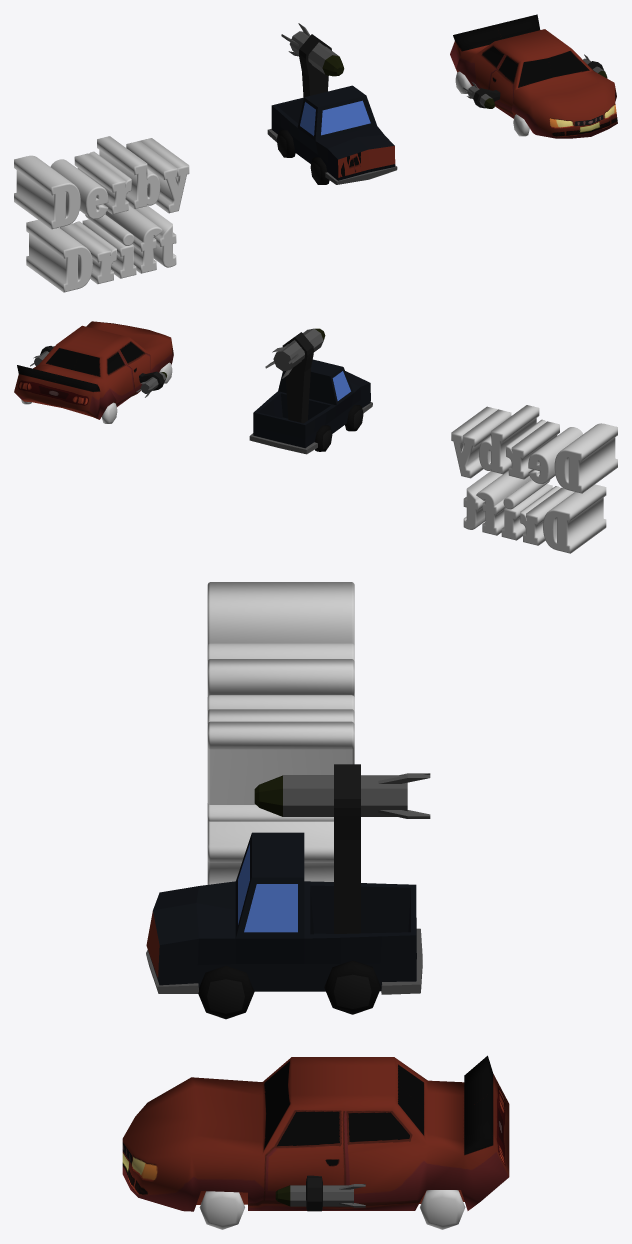
Rendered from Wheels1.obj.
3 renders of one model, top to bottom at view 1: azimuth 30°, elevation 25°; view 2: azimuth 150°, elevation 25°; view 3: azimuth 270°, elevation 25°, orthographic. The views are drawn at different scales.
Visible parts, largest first — view 1: Text, Cube_Cube.002, Cube.002_Cube.006, Cylinder.002, Cube.003_Cube.007, Plane.005_Plane.009, Plane.001_Plane.010; view 2: Text, Cube_Cube.002, Cube.002_Cube.006, Cube.003_Cube.007, Cylinder.002, Plane.005_Plane.009, Plane.001_Plane.010; view 3: Cube_Cube.002, Text, Cube.002_Cube.006, Cylinder.002, Cube.003_Cube.007, Plane.005_Plane.009, Plane.001_Plane.010, Cylinder.003.
Part boxes in pixels (x1,y1,x2,y2): Text: [14, 136, 189, 292]; Cube_Cube.002: [450, 14, 617, 138]; Cube.002_Cube.006: [267, 85, 397, 184]; Cylinder.002: [281, 23, 344, 76]; Cube.003_Cube.007: [299, 34, 331, 98]; Plane.005_Plane.009: [276, 130, 329, 184]; Plane.001_Plane.010: [455, 71, 529, 136]; Text: [451, 405, 617, 553]; Cube_Cube.002: [14, 321, 173, 419]; Cube.002_Cube.006: [249, 359, 372, 454]; Cube.003_Cube.007: [282, 332, 313, 423]; Cylinder.002: [265, 328, 325, 378]; Plane.005_Plane.009: [315, 405, 363, 451]; Plane.001_Plane.010: [21, 362, 172, 423]; Cube_Cube.002: [122, 1055, 509, 1211]; Text: [207, 582, 354, 884]; Cube.002_Cube.006: [146, 832, 422, 994]; Cylinder.002: [254, 773, 430, 818]; Cube.003_Cube.007: [334, 764, 360, 933]; Plane.005_Plane.009: [198, 960, 381, 1019]; Plane.001_Plane.010: [199, 1190, 465, 1229]; Cylinder.003: [275, 1184, 365, 1207].
Bounding box in the file's own units: 28.01 × 7.41 × 8.52.
